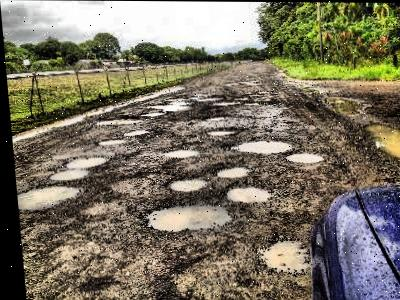pothole: (138, 200, 229, 232), (355, 120, 400, 177), (253, 237, 307, 274), (13, 184, 77, 210), (322, 93, 364, 119), (220, 183, 267, 202), (224, 139, 289, 152), (60, 154, 106, 170), (165, 176, 204, 191), (210, 164, 248, 179), (44, 168, 85, 181), (280, 151, 320, 163), (93, 114, 137, 124), (160, 148, 195, 158), (145, 102, 187, 110), (202, 127, 237, 135), (187, 92, 215, 102), (94, 137, 121, 145), (119, 128, 147, 135), (137, 110, 163, 116), (201, 114, 224, 120), (214, 101, 237, 107), (243, 100, 259, 107)
